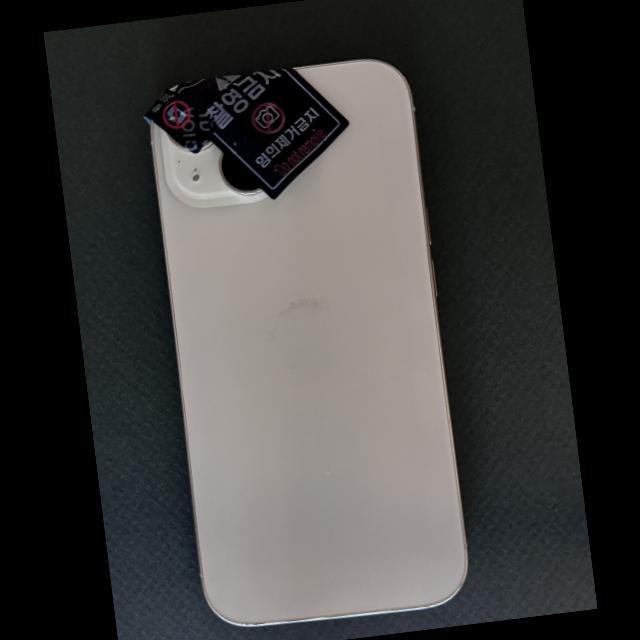lens: (219, 152, 261, 193), (166, 132, 186, 149)
phone: (148, 59, 467, 625)
sticker: (176, 67, 349, 200), (144, 90, 216, 153)
